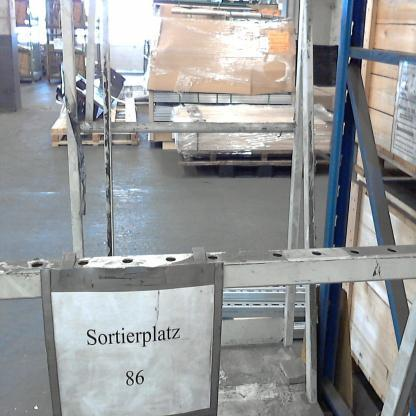pallets: (177, 145, 328, 177), (49, 113, 141, 149)
